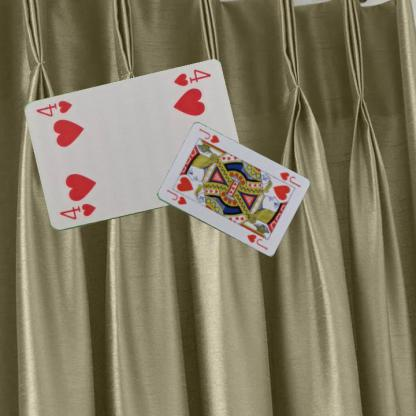4h: (171, 66, 212, 88), (57, 201, 97, 221)
Jh: (276, 169, 301, 189), (164, 187, 188, 206)
